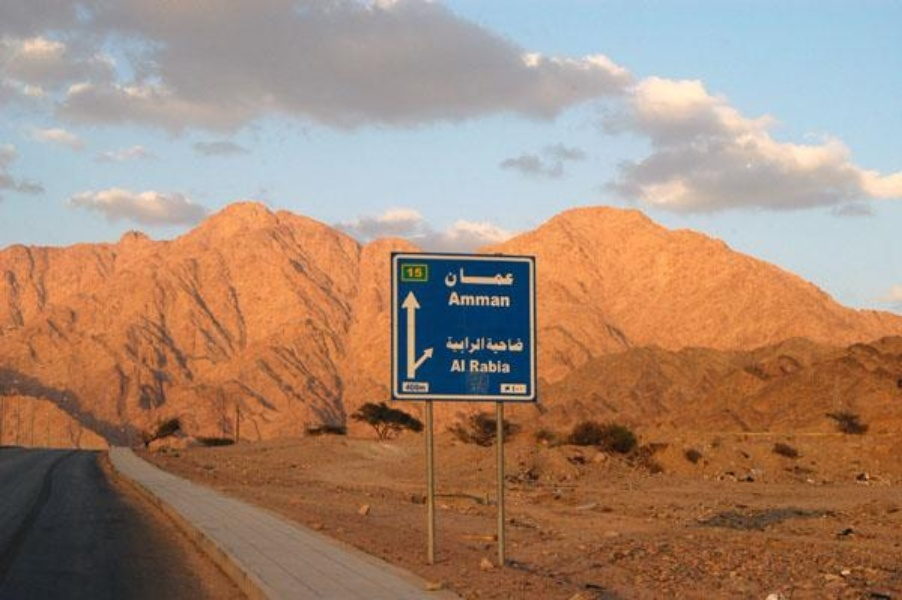text: (449, 265, 464, 288), (465, 265, 480, 288), (481, 265, 496, 288), (497, 265, 512, 288), (449, 334, 464, 355), (465, 334, 480, 355), (465, 289, 480, 309), (481, 289, 496, 309), (497, 289, 512, 309), (450, 289, 464, 309), (497, 358, 513, 375), (497, 337, 512, 355), (481, 358, 496, 375), (450, 357, 464, 373), (513, 337, 525, 355), (485, 337, 496, 355), (401, 382, 416, 394), (497, 382, 512, 394), (513, 382, 528, 394), (470, 358, 480, 375), (481, 334, 488, 355), (417, 382, 429, 394), (405, 267, 416, 279), (444, 265, 448, 288), (417, 267, 424, 279), (445, 334, 448, 355), (513, 265, 515, 288), (465, 357, 467, 373)
